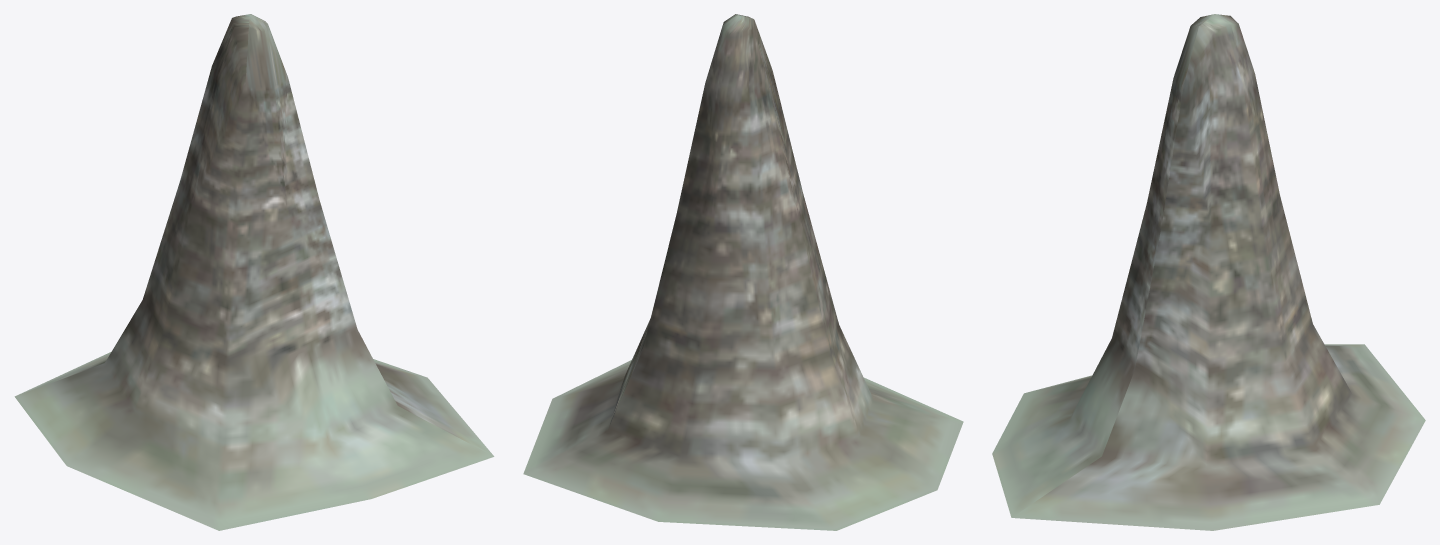
The model's file is TROLLHOLE02_PS-MAINSTALAG39.fbx.
3 views of the same model, side by side, from view 1: azimuth 30°, elevation 25°; view 2: azimuth 150°, elevation 25°; view 3: azimuth 270°, elevation 25° (orthographic). The views are drawn at different scales.
Parts seen in each view (by area): view 1: TROLLHOLE02_PS-MAINSTALAG39; view 2: TROLLHOLE02_PS-MAINSTALAG39; view 3: TROLLHOLE02_PS-MAINSTALAG39.
Part boxes in pixels (<box>): TROLLHOLE02_PS-MAINSTALAG39: <box>14,14,494,530</box>; TROLLHOLE02_PS-MAINSTALAG39: <box>523,14,963,530</box>; TROLLHOLE02_PS-MAINSTALAG39: <box>992,14,1425,530</box>.
Size of the model in its own units: 26305 by 29177 by 25963.
Materials: 1 (1 with a texture image).
